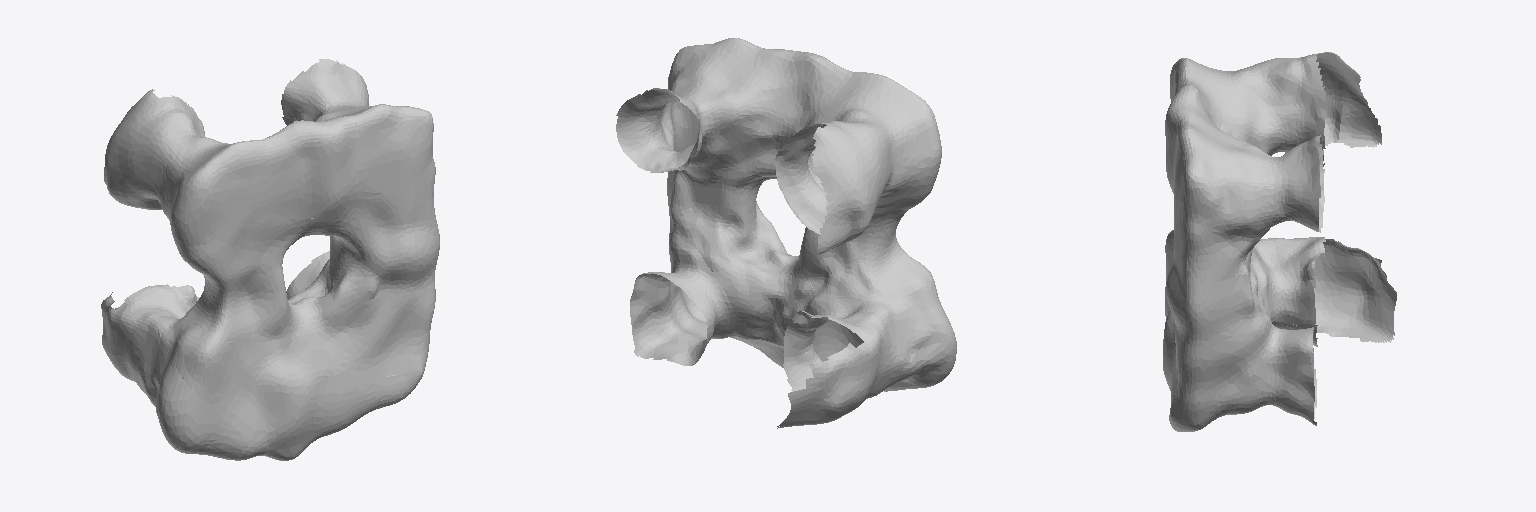
The model's file is Plateau 1.obj.
The picture shows the model from 3 angles: view 1: azimuth 30°, elevation 25°; view 2: azimuth 150°, elevation 25°; view 3: azimuth 270°, elevation 25°; orthographic projection.
Parts seen in each view (by area): view 1: Plateau 1_0; view 2: Plateau 1_0; view 3: Plateau 1_0.
Boxes of the visible parts, <box> form: Plateau 1_0: <box>101,59,439,460</box>; Plateau 1_0: <box>616,38,956,428</box>; Plateau 1_0: <box>1163,52,1396,431</box>.
Bounding box in the file's own units: 1.07 × 1.22 × 0.7752.